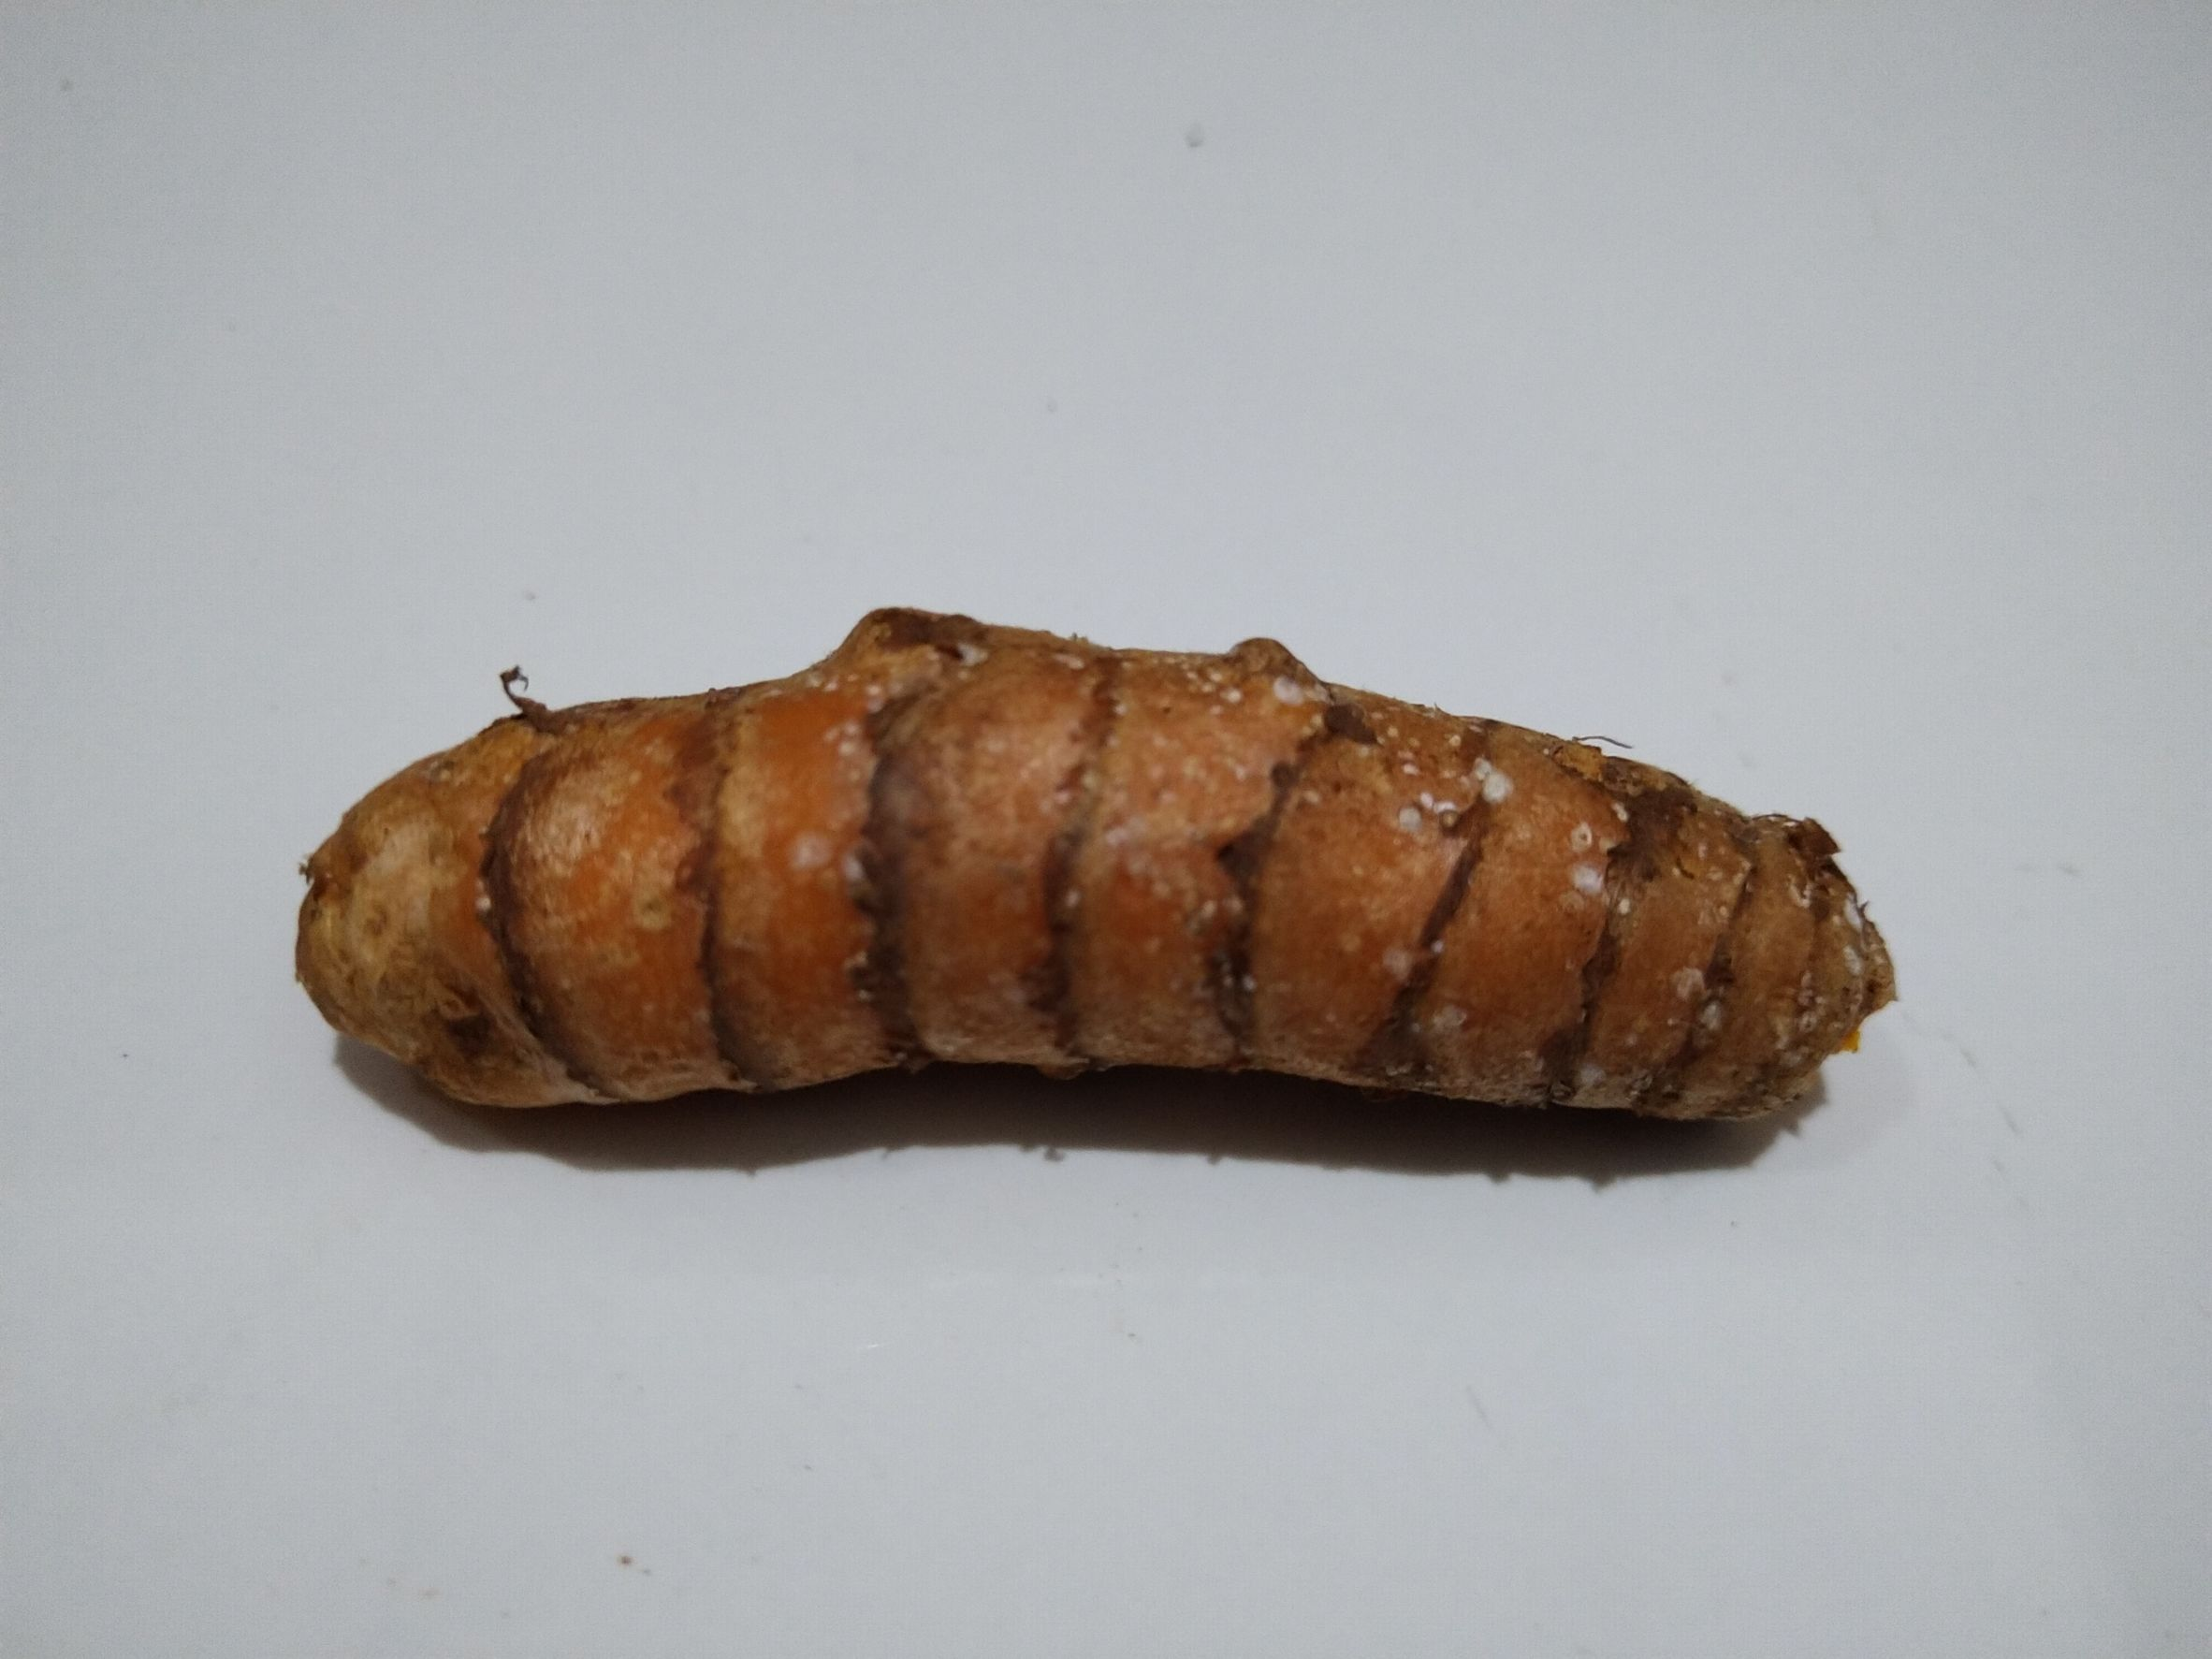Kunyit: (287, 650, 1883, 1195)
